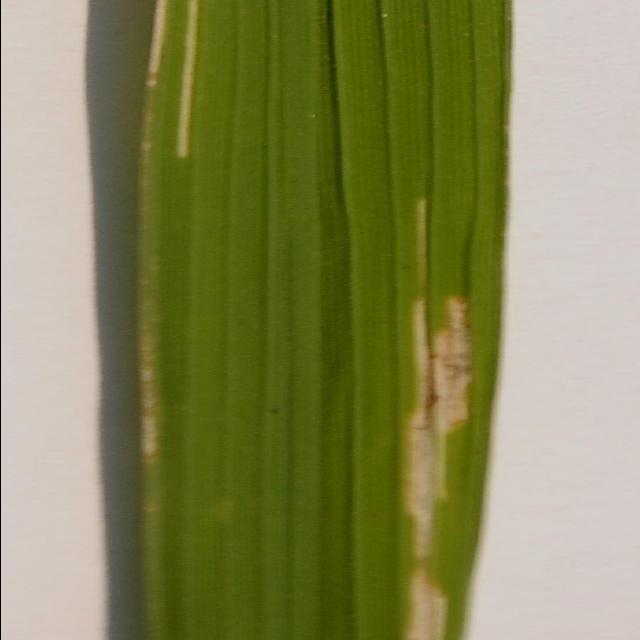Bacterial_Leaf_Blight: (366, 160, 511, 640), (53, 0, 243, 174)
